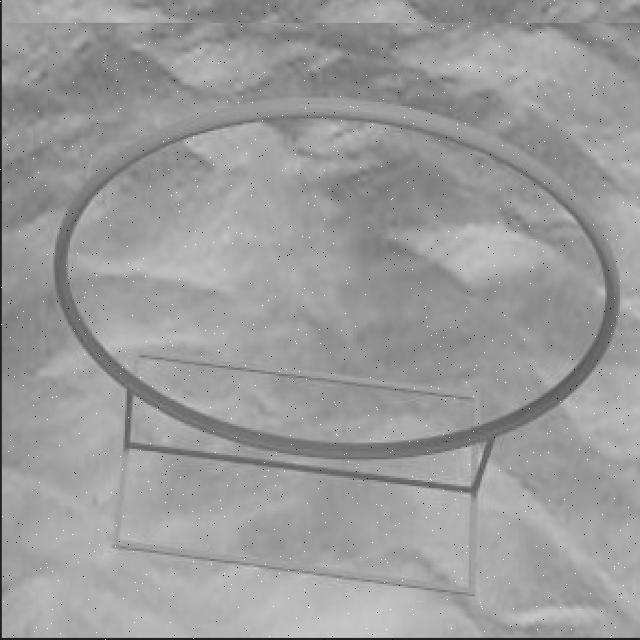Circle: (44, 87, 630, 465)
